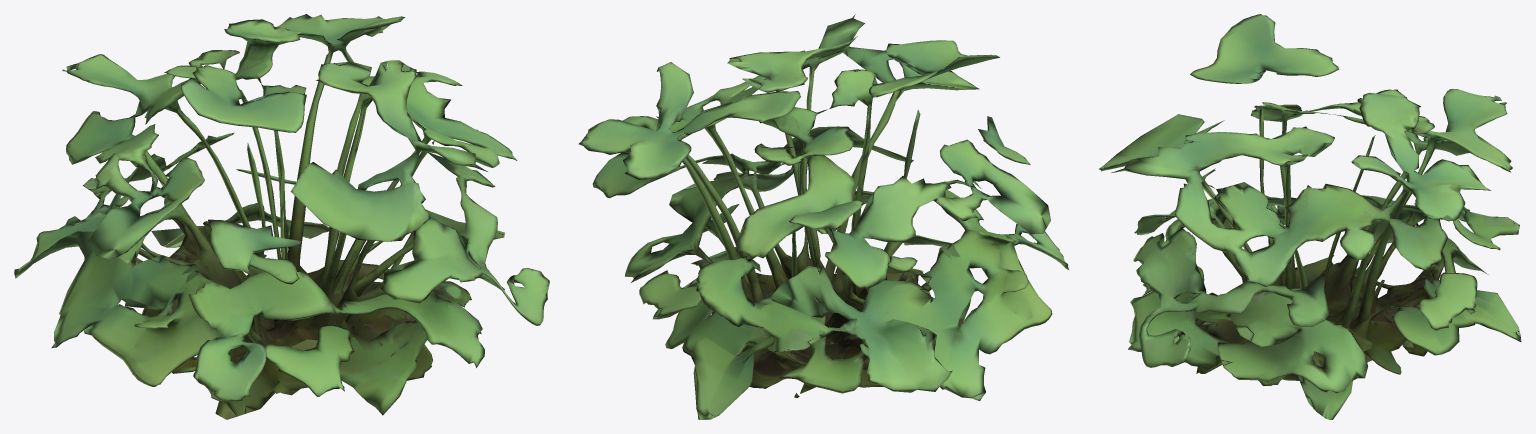
The model's file is strawberry_l.glb.
3 views of the same model, side by side, from view 1: azimuth 30°, elevation 25°; view 2: azimuth 150°, elevation 25°; view 3: azimuth 270°, elevation 25° (orthographic). The views are drawn at different scales.
Size of the model in its own units: 1.94 by 1.49 by 2.
Materials: 1 (1 with a texture image).
